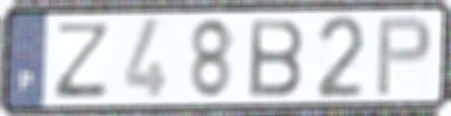2: (315, 13, 368, 101)
4: (120, 14, 173, 105)
8: (188, 16, 237, 102)
B: (247, 16, 307, 99)
P: (373, 13, 435, 99)
Z: (50, 20, 115, 101)
